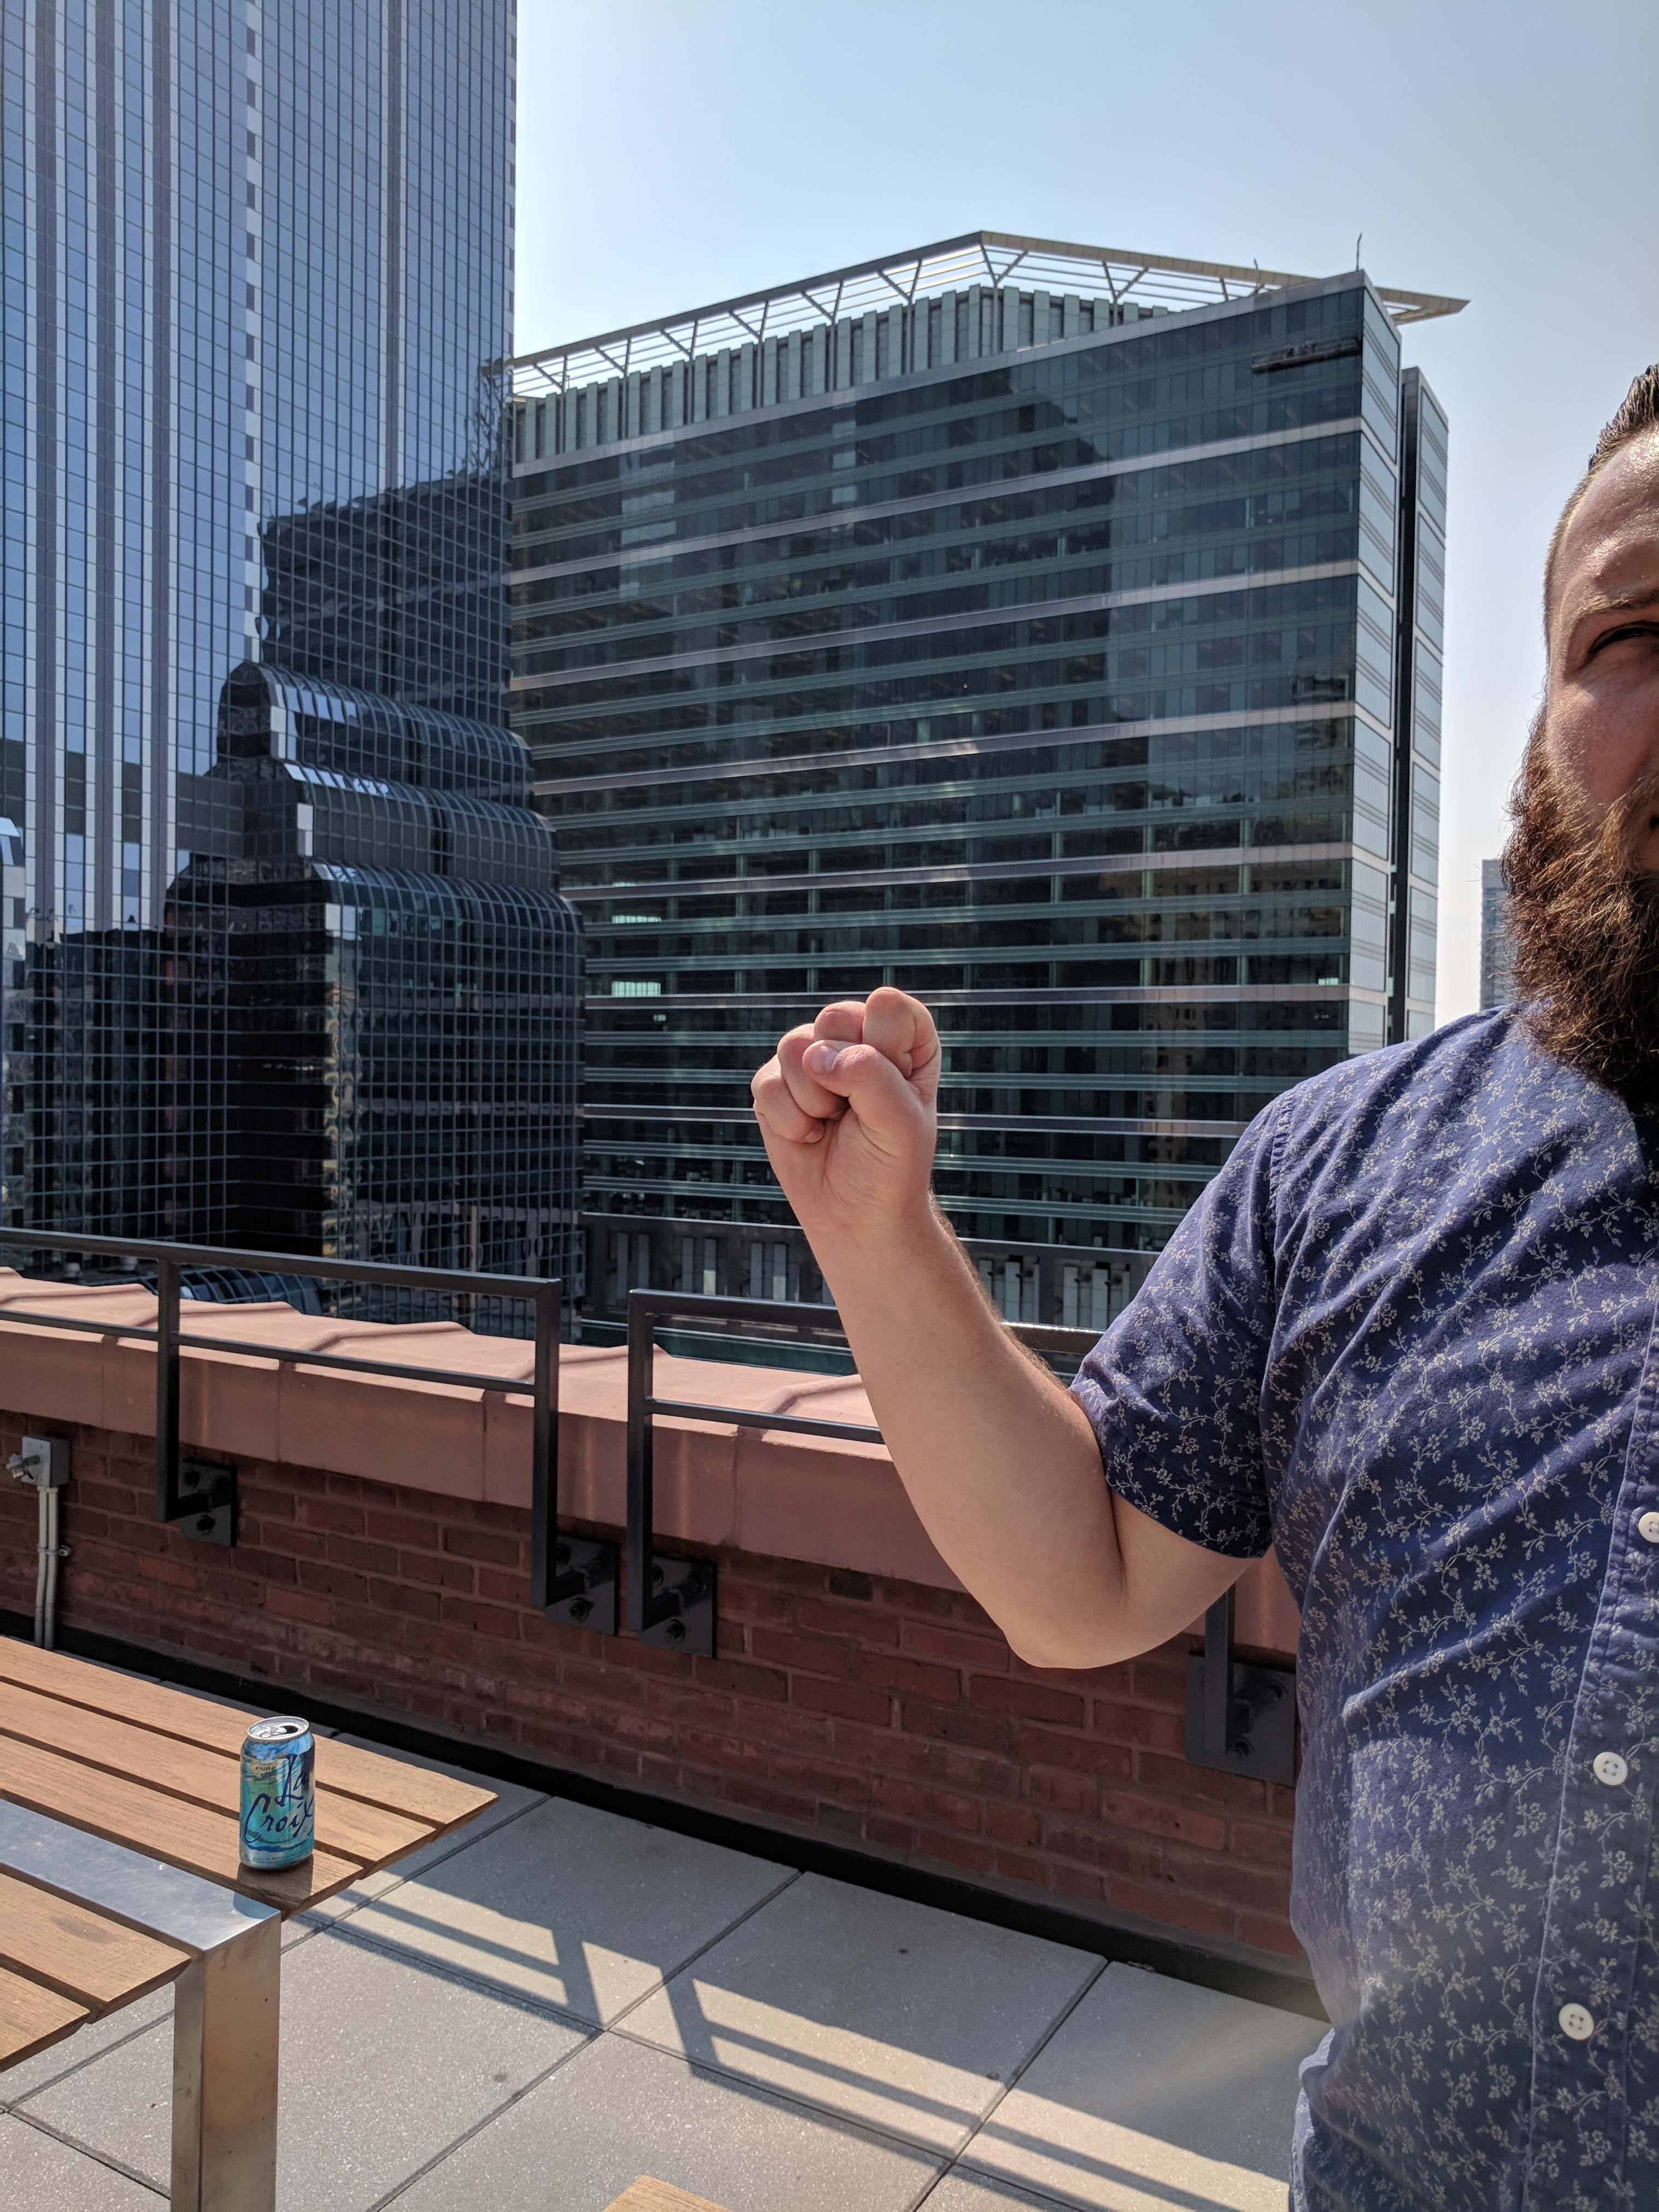s: (753, 974, 967, 1244)
